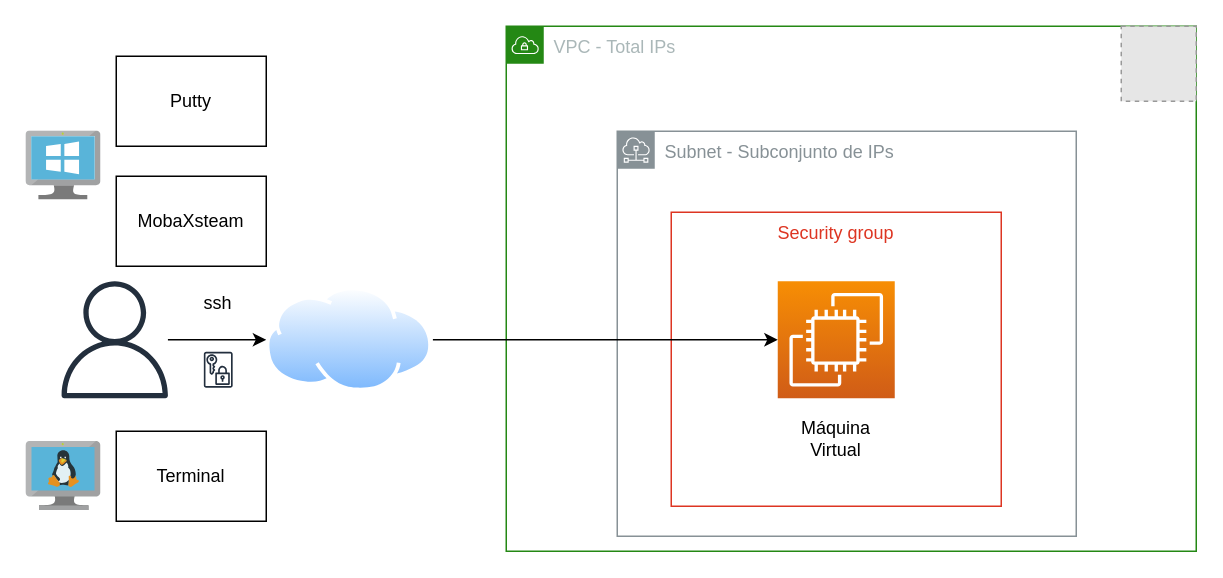
Some shapes in this 1223 by 578 pixel diagram are drawn without their labels. Grey dashed boxes stand in for pictures. Here are the shapes that lost their labels. From the top down, the centre of each, then its label:
the point at 349,339: Internet
the point at 217,369: Llave de acceso
